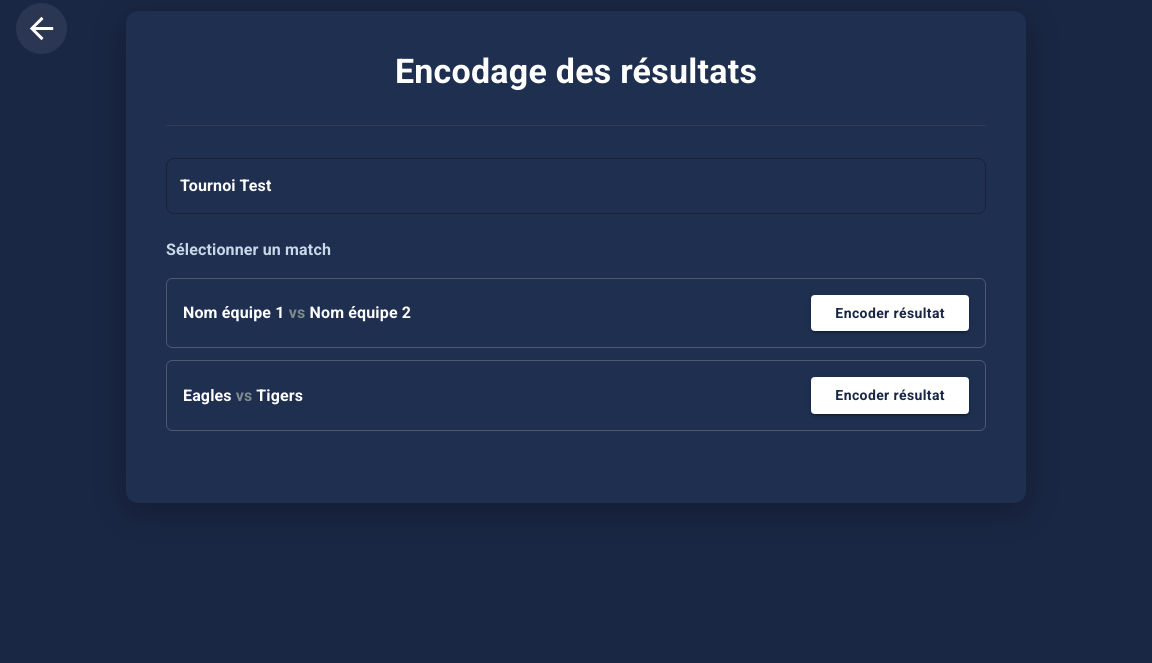
Test: ResultEncodingPage › affiche une erreur si les scores ne sont pas remplis
This screenshot has width=1152, height=663.
Click the button "Encoder résultat" in the row of "Nom équipe 2".
click(890, 313)  # box [811, 295, 969, 332]
(page scrolled)
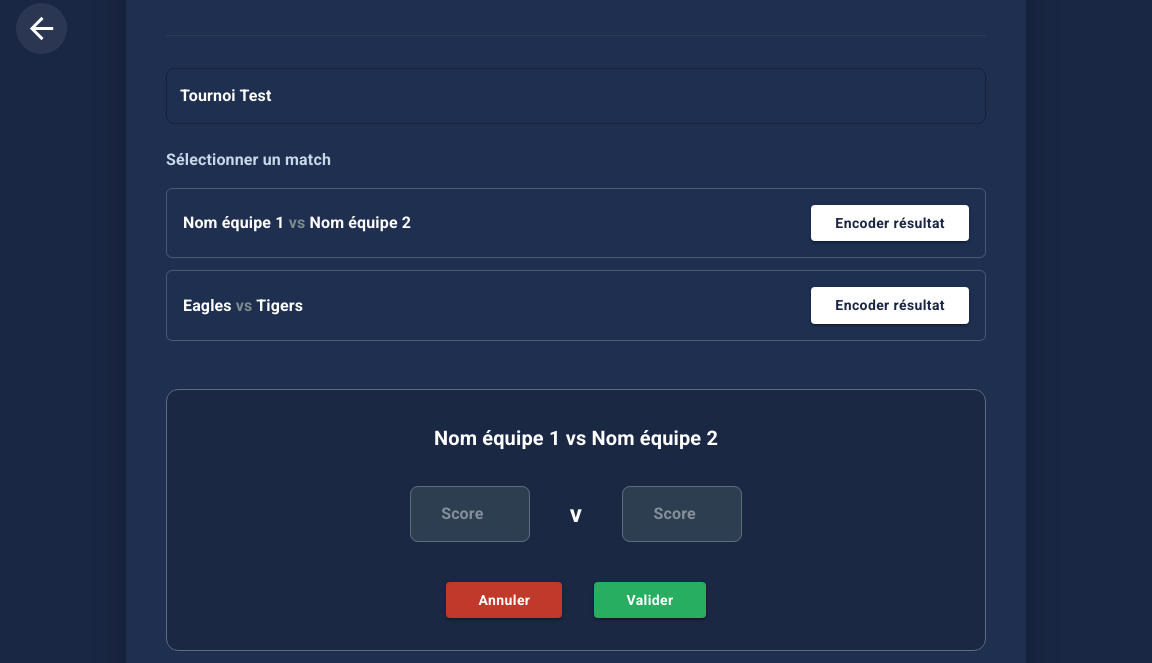
Click the button "Valider".
click(650, 600)  # box [594, 582, 706, 618]
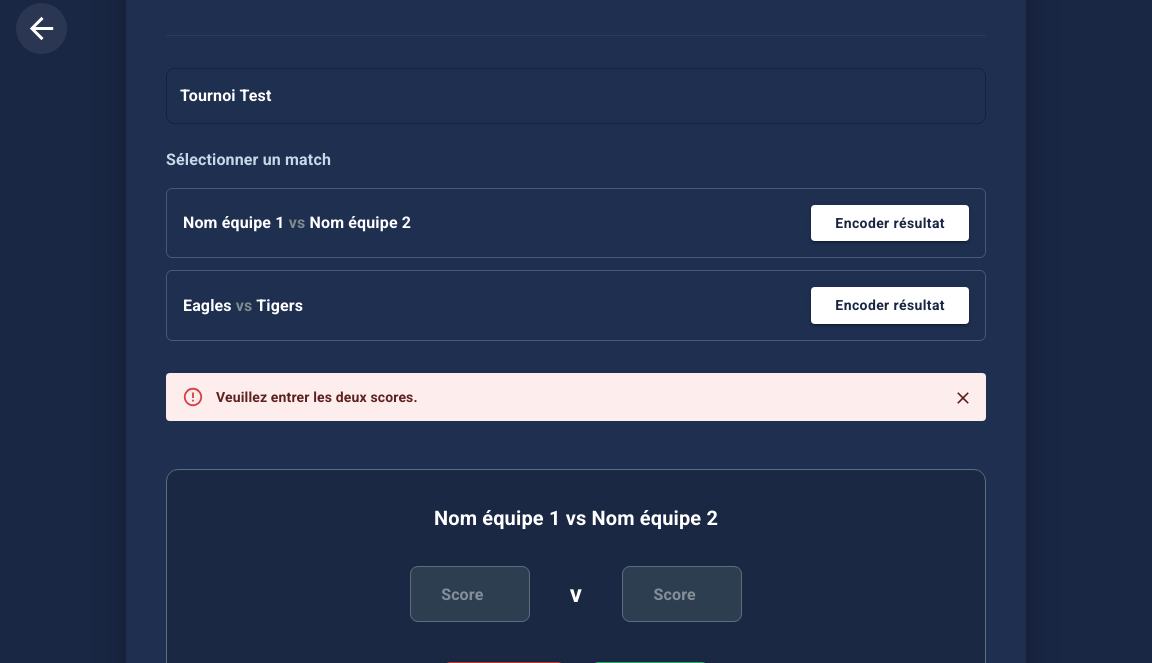
Expected: the text "Veuillez entrer les deux scores." is shown, [216, 389, 418, 405]
